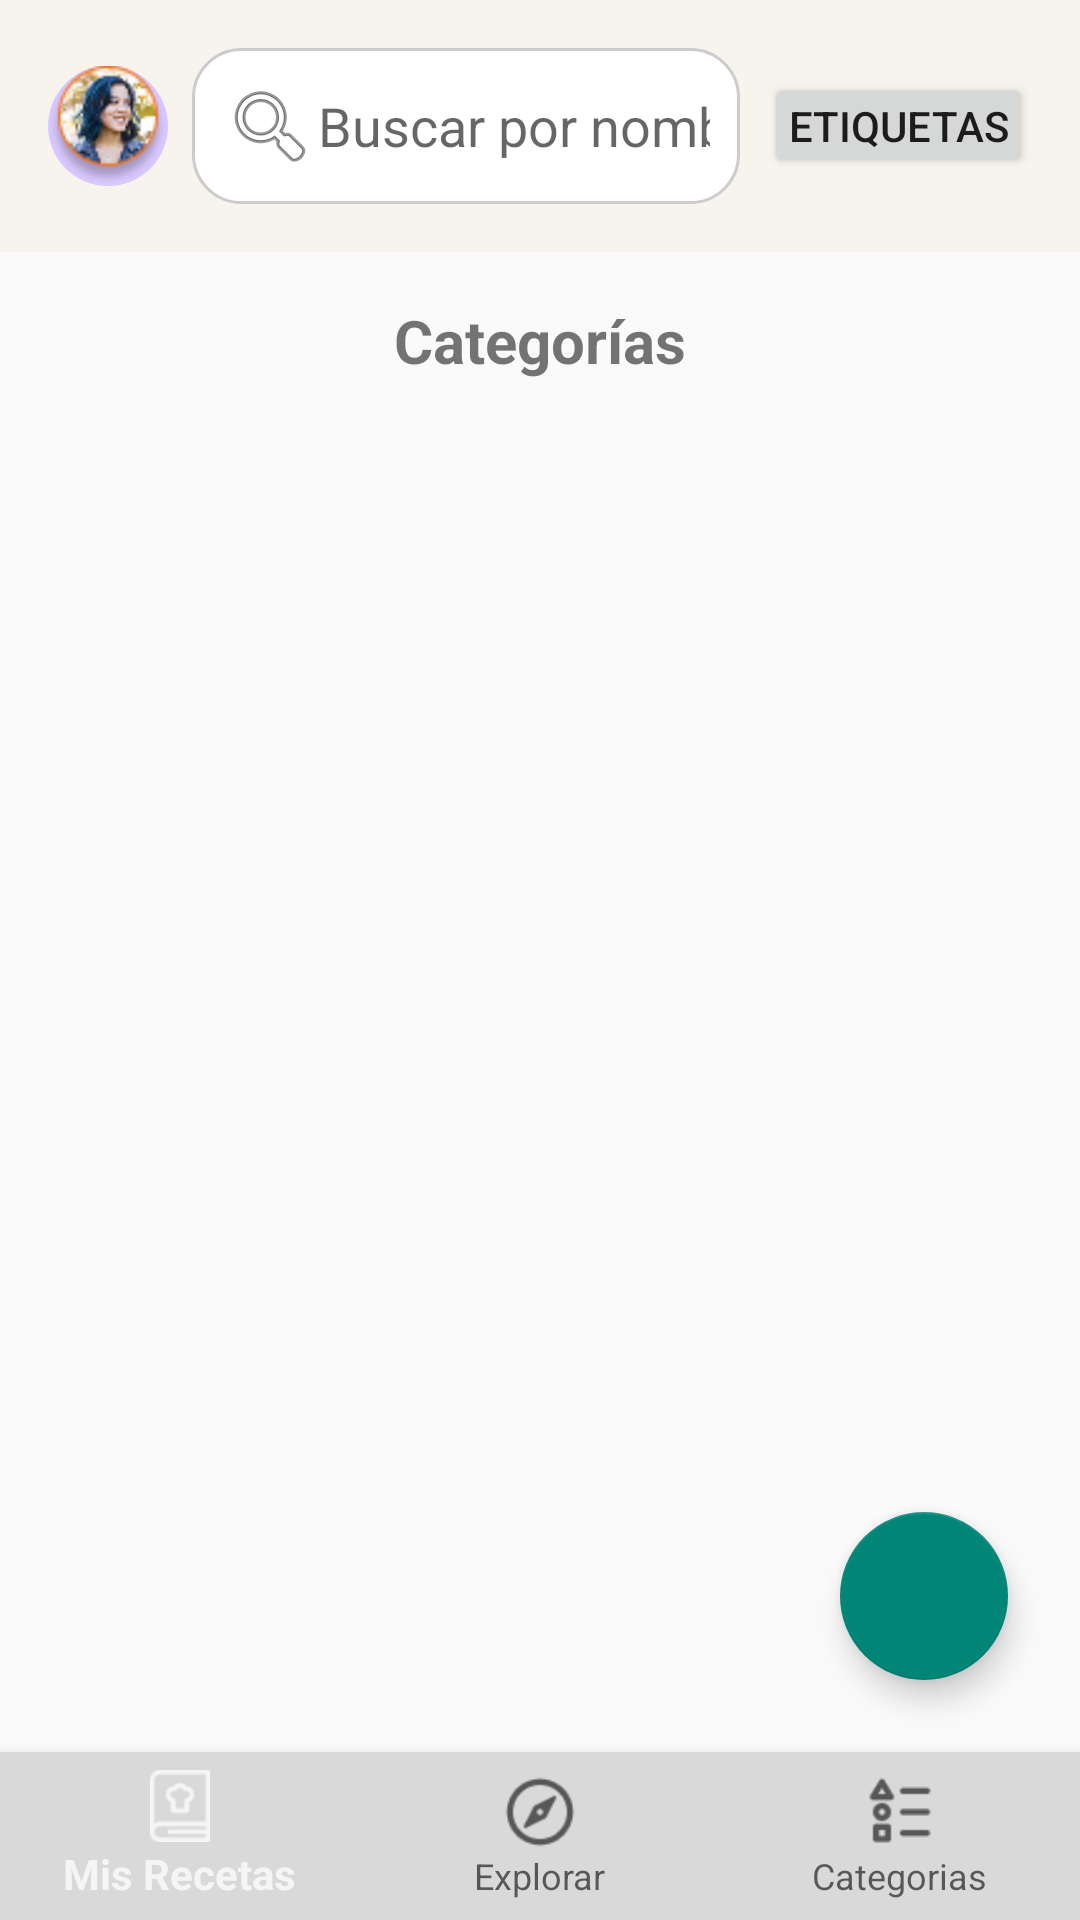

Icons on this 1080 x 1920 Android screen, each with the point to tap as (x,y):
Imagen de perfil: (108,126)
